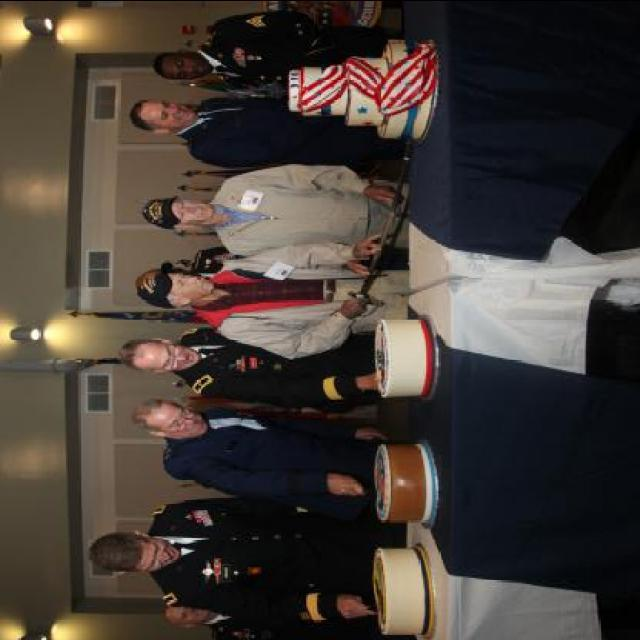Cake: (288, 38, 432, 138), (372, 546, 428, 636), (372, 440, 430, 522), (375, 316, 437, 392)
